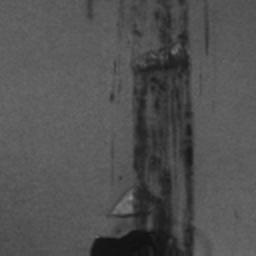Slag inclusion: (88, 0, 198, 253), (202, 0, 210, 58), (86, 0, 96, 24), (108, 82, 116, 104), (111, 63, 118, 78)
